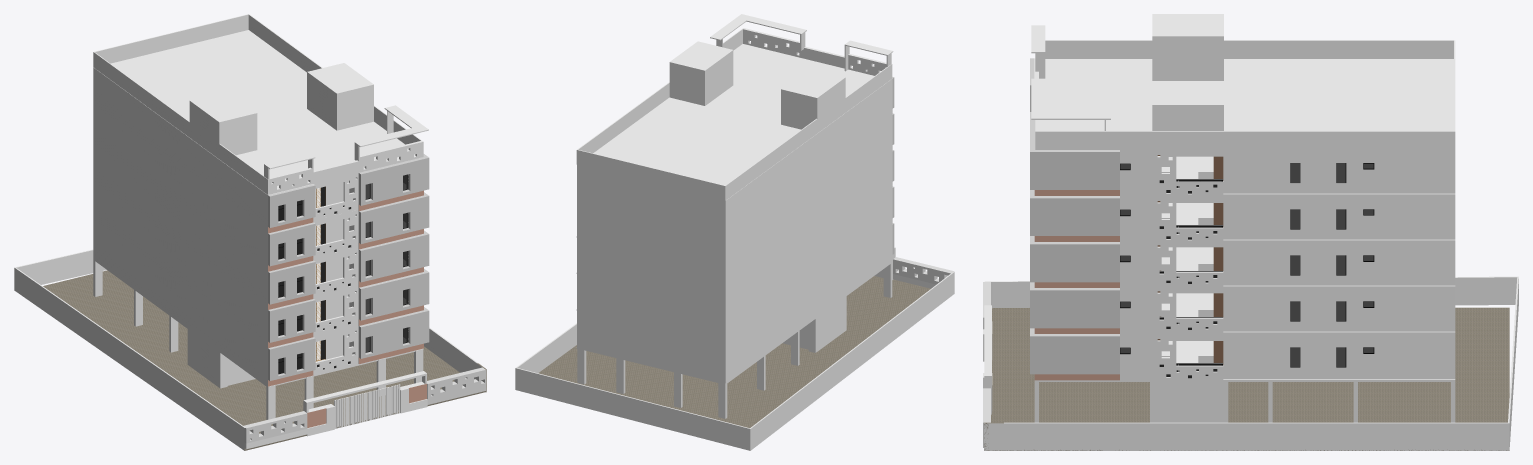
Rendered from service_residence.glb.
3 renders of one model, left to right at view 1: azimuth 30°, elevation 25°; view 2: azimuth 150°, elevation 25°; view 3: azimuth 270°, elevation 25°, orthographic. The views are drawn at different scales.
Parts seen in each view (by area): view 1: Mesh366_Color_M00_0, Mesh346_Color_M00_0, Mesh401_Color_A07_0, Mesh94_Color_M00_0, Mesh400_Color_M00_0, Mesh230_Color_M00_0, Mesh92_Color_M00_0, Mesh298_Color_M00_0, Mesh162_Color_M00_0, Mesh368_FrontColor_0, Mesh367_FrontColor_0, Mesh354_Color_M02_0 (+28 smaller); view 2: Mesh366_Color_M00_0, Mesh401_Color_A07_0, Mesh346_Color_M00_0, Mesh92_Color_M00_0, Mesh230_Color_M00_0, Mesh162_Color_M00_0, Mesh400_Color_M00_0, Mesh94_Color_M00_0, Mesh298_Color_M00_0, Mesh298_FrontColor_0, Mesh368_FrontColor_0, Mesh367_FrontColor_0 (+5 smaller); view 3: Mesh366_Color_M00_0, Mesh401_Color_A07_0, Mesh400_Color_M00_0, Mesh94_Color_M00_0, Mesh346_Color_M00_0, Mesh92_Color_M00_0, Mesh230_Color_M00_0, Mesh162_Color_M00_0, Mesh298_Color_M00_0, Mesh367_FrontColor_0, Mesh354_Color_M02_0, Mesh80_Color_M02_0 (+20 smaller).
Part boxes in pixels (<box>): Mesh366_Color_M00_0: <box>93,30,414,232</box>; Mesh346_Color_M00_0: <box>111,30,415,187</box>; Mesh401_Color_A07_0: <box>43,270,486,450</box>; Mesh94_Color_M00_0: <box>93,14,423,194</box>; Mesh400_Color_M00_0: <box>14,249,477,450</box>; Mesh230_Color_M00_0: <box>93,106,406,271</box>; Mesh92_Color_M00_0: <box>93,220,406,385</box>; Mesh298_Color_M00_0: <box>93,144,406,309</box>; Mesh162_Color_M00_0: <box>93,182,406,347</box>; Mesh368_FrontColor_0: <box>307,63,373,130</box>; Mesh367_FrontColor_0: <box>189,91,257,155</box>; Mesh354_Color_M02_0: <box>358,154,429,205</box>; Mesh366_Color_M00_0: <box>577,44,892,237</box>; Mesh401_Color_A07_0: <box>538,276,930,427</box>; Mesh346_Color_M00_0: <box>593,44,874,185</box>; Mesh92_Color_M00_0: <box>577,225,892,383</box>; Mesh230_Color_M00_0: <box>577,115,892,273</box>; Mesh162_Color_M00_0: <box>577,188,892,346</box>; Mesh400_Color_M00_0: <box>515,271,954,450</box>; Mesh94_Color_M00_0: <box>576,28,892,200</box>; Mesh298_Color_M00_0: <box>578,152,892,310</box>; Mesh298_FrontColor_0: <box>577,237,723,308</box>; Mesh368_FrontColor_0: <box>669,41,733,105</box>; Mesh367_FrontColor_0: <box>781,68,845,129</box>; Mesh366_Color_M00_0: <box>1034,58,1455,195</box>; Mesh401_Color_A07_0: <box>984,307,1509,450</box>; Mesh400_Color_M00_0: <box>984,276,1518,450</box>; Mesh94_Color_M00_0: <box>1035,40,1455,149</box>; Mesh346_Color_M00_0: <box>1040,60,1453,152</box>; Mesh92_Color_M00_0: <box>1120,334,1455,379</box>; Mesh230_Color_M00_0: <box>1120,196,1455,240</box>; Mesh162_Color_M00_0: <box>1120,288,1455,332</box>; Mesh298_Color_M00_0: <box>1120,242,1455,286</box>; Mesh367_FrontColor_0: <box>1152,14,1223,80</box>; Mesh354_Color_M02_0: <box>1030,112,1119,189</box>; Mesh80_Color_M02_0: <box>1030,328,1119,374</box>.
Size of the model in its own units: 16.77 by 17.1 by 25.87.
16 materials, 1 textured.
